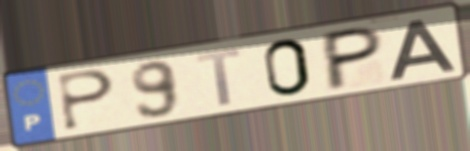0: (260, 37, 315, 99)
9: (128, 58, 182, 119)
A: (387, 16, 460, 82)
P: (323, 23, 387, 95), (55, 68, 118, 134)
T: (193, 46, 244, 109)
